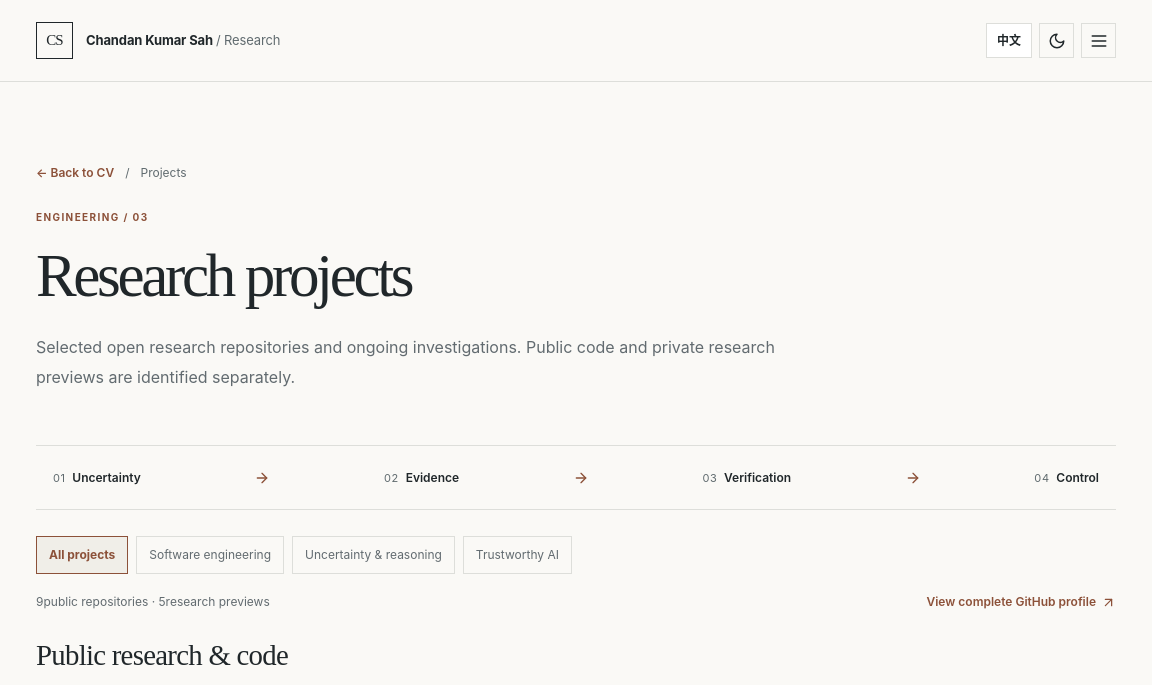
Projects directory, privacy and release status › replaces OpenCoder repository link with a non-clickable coming-soon notice
The image size is (1152, 685).
Click the button "Trustworthy AI".
click(517, 555)  # box [463,536,572,574]
(page scrolled)
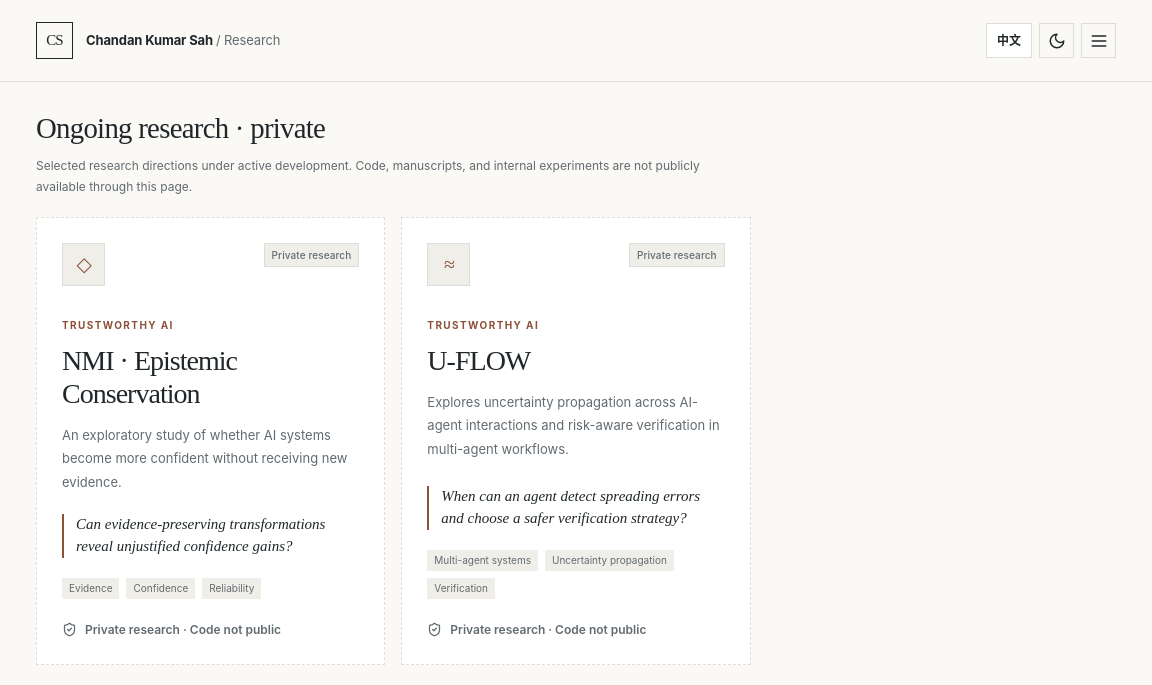
Expected: the heading "NMI · Epistemic Conservation" is shown, [62,345,237,409]
Now the number of elements with class "ongoing-project-card" is 2, box [36,217,385,665]; [401,217,751,665]
